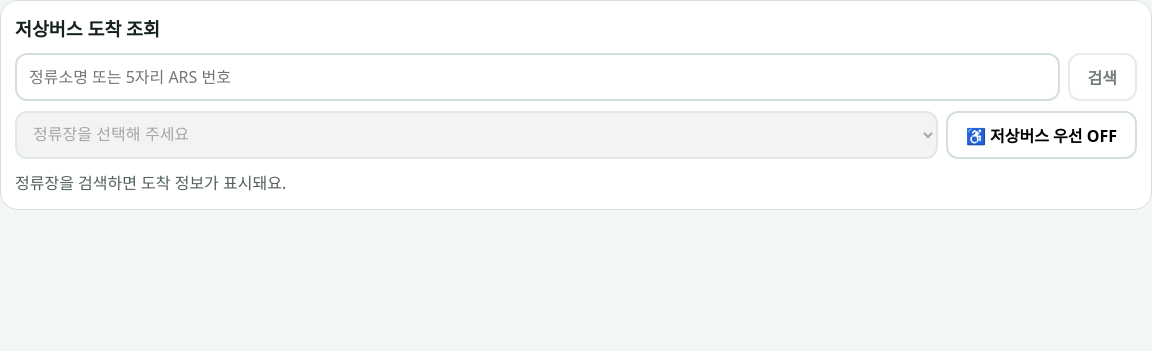
저상버스 도착 상태 › 도착까지 1분 미만이면 0분 대신 곧 도착으로 표시한다
This screenshot has width=1152, height=351.
In the field named "버스 정류장 검색": (537, 77) [15,53,1060,101], type "서면"
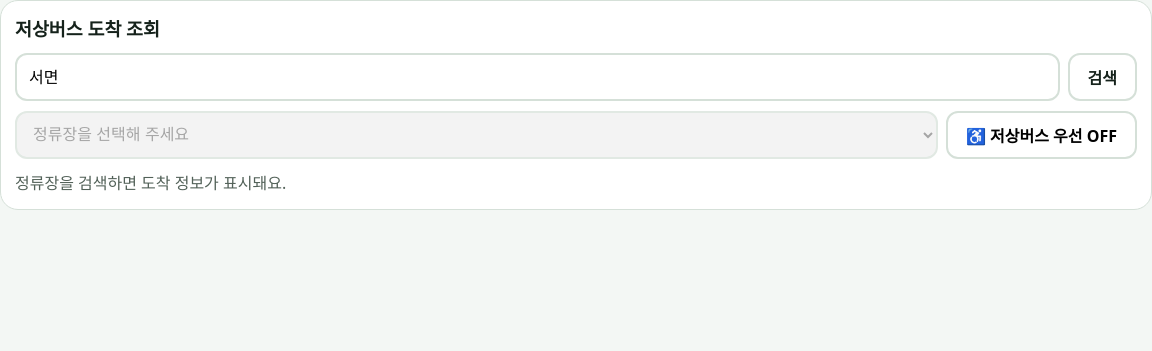
Click the button "검색": (1102, 77) [1068,53,1137,101]
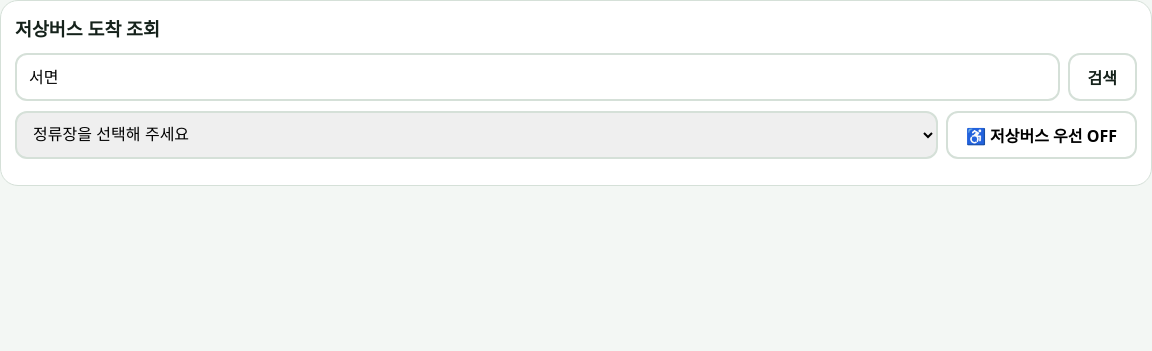
Select "서면역 · stop-1" in the dropdown named "정류장 선택": (476, 135) [15,111,938,159]
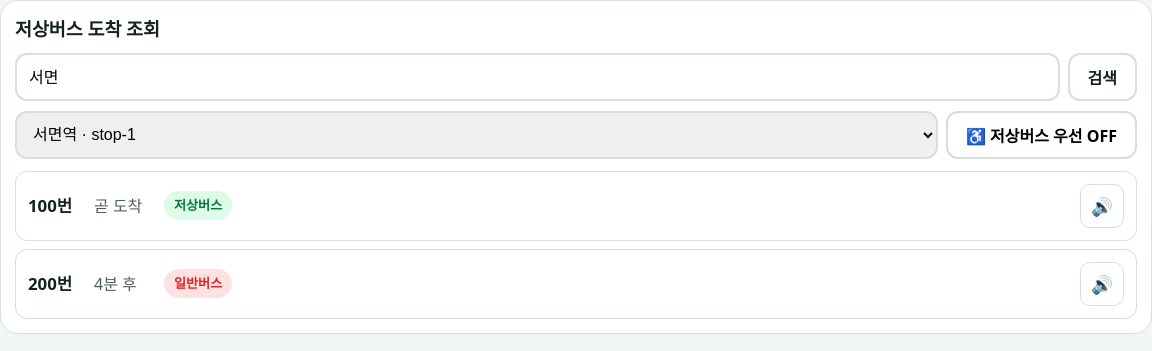
Expected: the text "곧 도착" is shown, [94,195,142,217]
Expected: the text "4분 후" is shown, [94,273,137,295]
